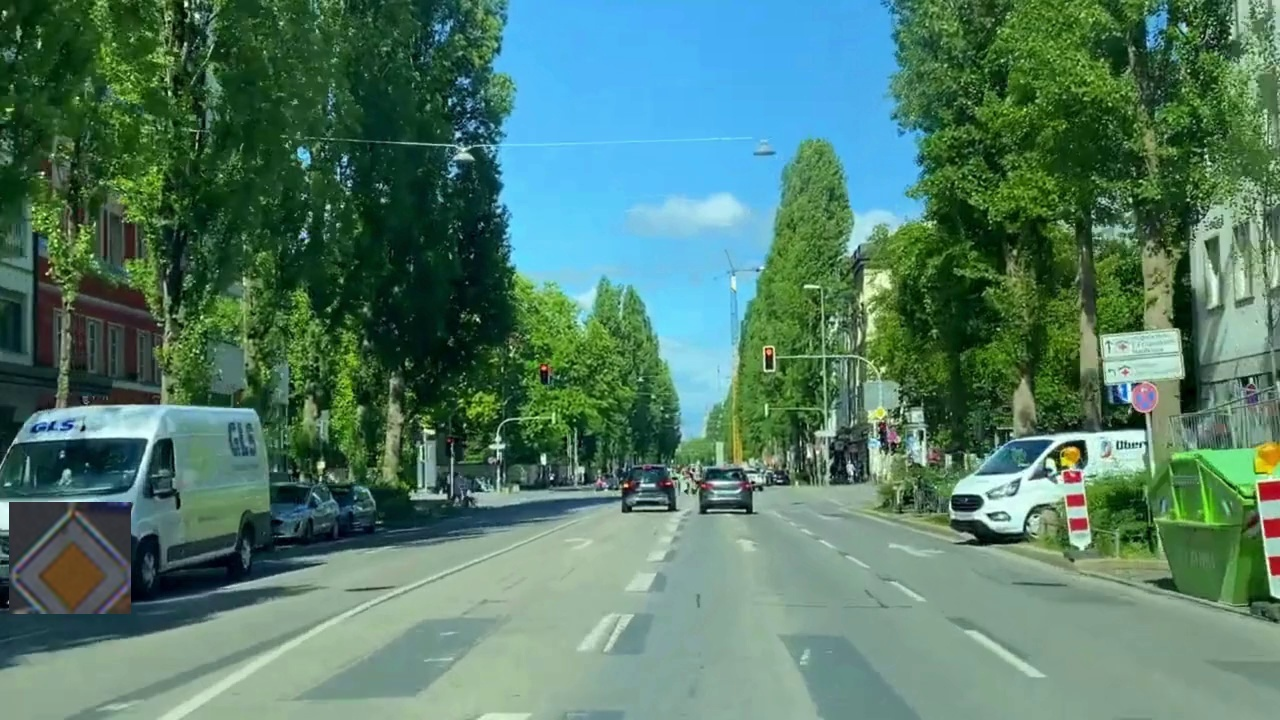Priority road: (9, 502, 131, 614)
